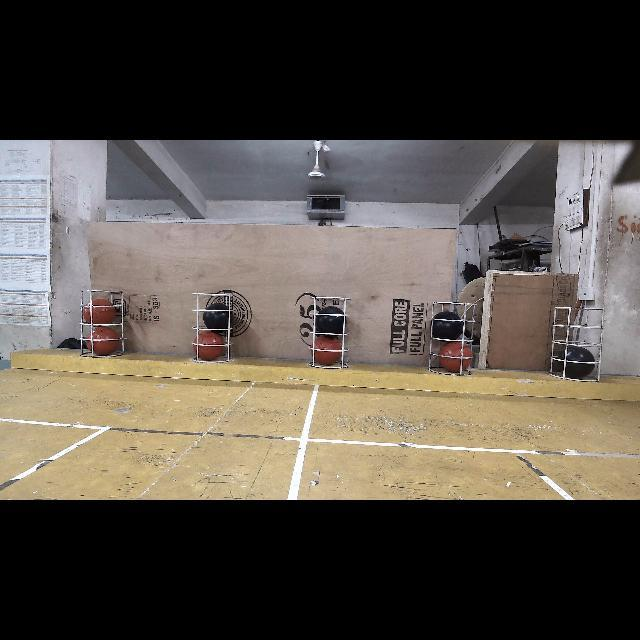P: (558, 346, 596, 378), (316, 306, 348, 338), (431, 312, 464, 342), (203, 302, 233, 332)
R: (438, 342, 472, 372), (88, 326, 120, 356), (311, 335, 341, 365), (193, 332, 224, 361), (84, 299, 116, 327)
S: (552, 304, 604, 381), (430, 300, 476, 376), (79, 287, 125, 358), (192, 290, 235, 364), (310, 296, 352, 370)
